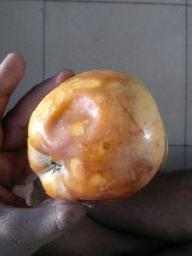Apple Rotten: (26, 70, 170, 206)
